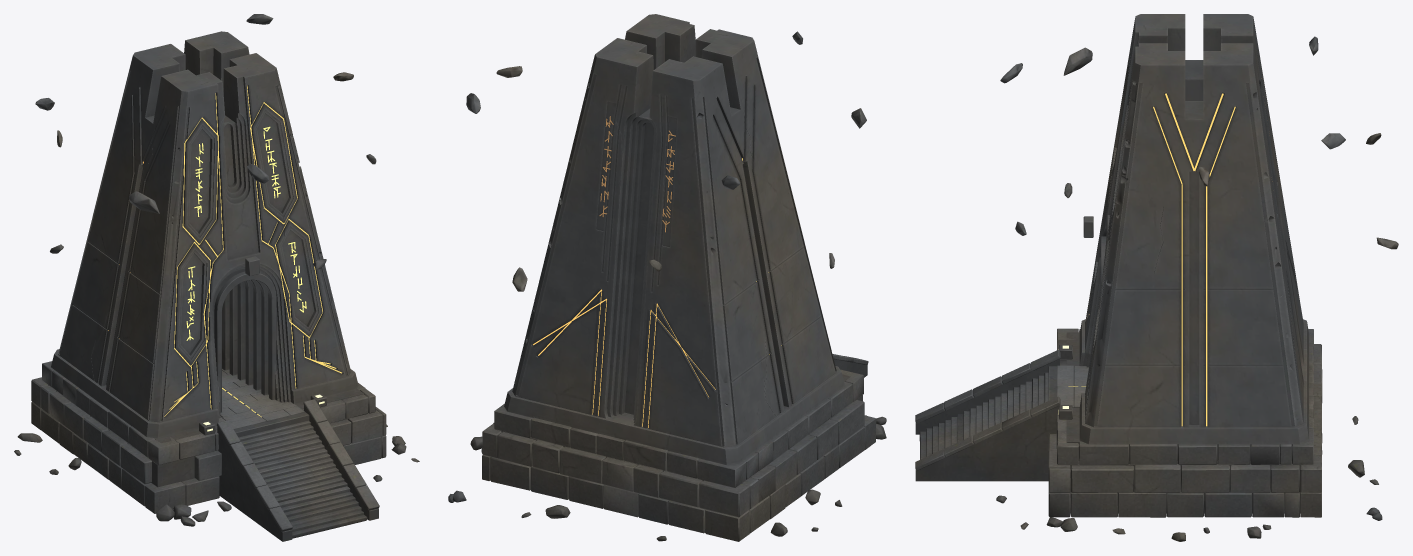
The model's file is severance_gate.glb.
3 views of the same model, side by side, from view 1: azimuth 30°, elevation 25°; view 2: azimuth 150°, elevation 25°; view 3: azimuth 270°, elevation 25° (orthographic). The views are drawn at different scales.
Parts seen in each view (by area): view 1: Body, Base, Channels, Runes; view 2: Body, Base, Channels, RunesDim; view 3: Body, Base, Channels.
Part boxes in pixels (bbox=[...]): Body: bbox=[51, 31, 358, 438]; Base: bbox=[14, 361, 419, 541]; Channels: bbox=[108, 85, 341, 417]; Runes: bbox=[186, 126, 306, 340]; Body: bbox=[504, 14, 844, 464]; Base: bbox=[448, 354, 886, 541]; Channels: bbox=[533, 158, 781, 427]; RunesDim: bbox=[599, 116, 675, 232]; Body: bbox=[1057, 14, 1308, 444]; Base: bbox=[915, 328, 1382, 541]; Channels: bbox=[1068, 93, 1235, 426].
Size of the model in its own units: 25.06 by 28.23 by 29.52.
6 materials, 2 textured.
